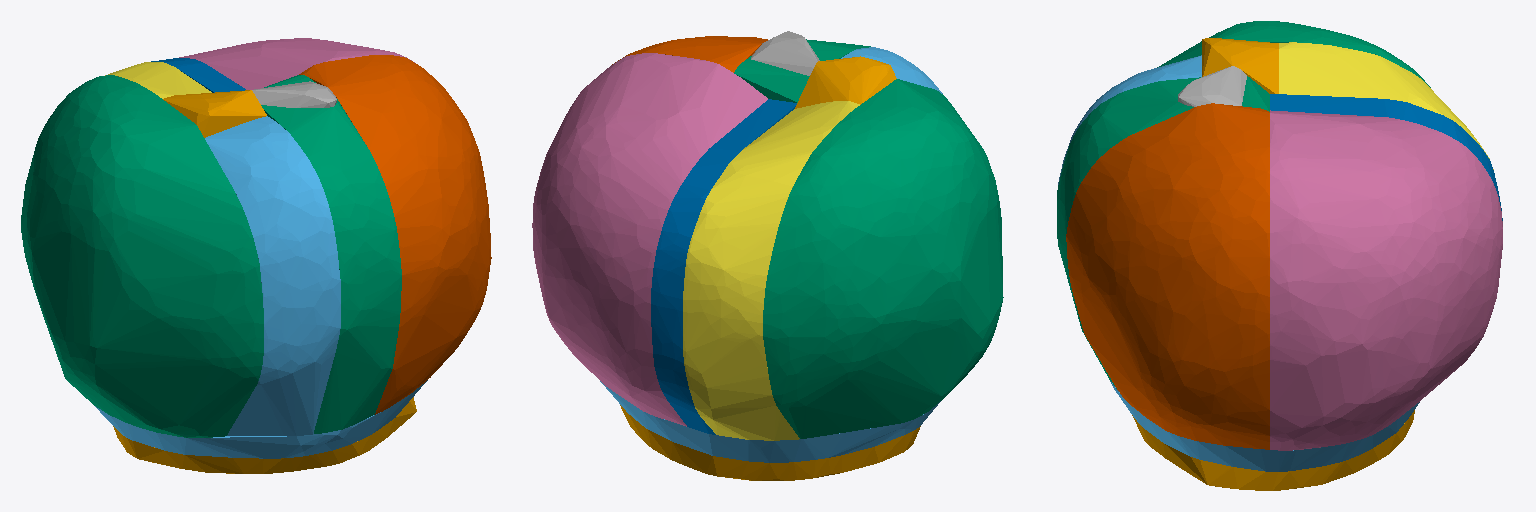
The robot description file, URDF, robot "root":
<?xml version='1.0' encoding='UTF-8'?>
<robot name="root">
  <link name="link_convex_piece_000.obj">
    <inertial>
      <origin xyz="0 0 0" rpy="0 0 0"/>
    </inertial>
    <visual>
      <origin xyz="0 0 0" rpy="0 0 0"/>
      <geometry>
        <mesh filename="meshes/convex_piece_000.obj" scale="1.0 1.0 1.0"/>
      </geometry>
    </visual>
    <collision>
      <origin xyz="0 0 0" rpy="0 0 0"/>
      <geometry>
        <mesh filename="meshes/convex_piece_000.obj" scale="1.0 1.0 1.0"/>
      </geometry>
    </collision>
  </link>
  <link name="link_convex_piece_001.obj">
    <inertial>
      <origin xyz="0 0 0" rpy="0 0 0"/>
    </inertial>
    <visual>
      <origin xyz="0 0 0" rpy="0 0 0"/>
      <geometry>
        <mesh filename="meshes/convex_piece_001.obj" scale="1.0 1.0 1.0"/>
      </geometry>
    </visual>
    <collision>
      <origin xyz="0 0 0" rpy="0 0 0"/>
      <geometry>
        <mesh filename="meshes/convex_piece_001.obj" scale="1.0 1.0 1.0"/>
      </geometry>
    </collision>
  </link>
  <link name="link_convex_piece_002.obj">
    <inertial>
      <origin xyz="0 0 0" rpy="0 0 0"/>
    </inertial>
    <visual>
      <origin xyz="0 0 0" rpy="0 0 0"/>
      <geometry>
        <mesh filename="meshes/convex_piece_002.obj" scale="1.0 1.0 1.0"/>
      </geometry>
    </visual>
    <collision>
      <origin xyz="0 0 0" rpy="0 0 0"/>
      <geometry>
        <mesh filename="meshes/convex_piece_002.obj" scale="1.0 1.0 1.0"/>
      </geometry>
    </collision>
  </link>
  <link name="link_convex_piece_003.obj">
    <inertial>
      <origin xyz="0 0 0" rpy="0 0 0"/>
    </inertial>
    <visual>
      <origin xyz="0 0 0" rpy="0 0 0"/>
      <geometry>
        <mesh filename="meshes/convex_piece_003.obj" scale="1.0 1.0 1.0"/>
      </geometry>
    </visual>
    <collision>
      <origin xyz="0 0 0" rpy="0 0 0"/>
      <geometry>
        <mesh filename="meshes/convex_piece_003.obj" scale="1.0 1.0 1.0"/>
      </geometry>
    </collision>
  </link>
  <link name="link_convex_piece_004.obj">
    <inertial>
      <origin xyz="0 0 0" rpy="0 0 0"/>
    </inertial>
    <visual>
      <origin xyz="0 0 0" rpy="0 0 0"/>
      <geometry>
        <mesh filename="meshes/convex_piece_004.obj" scale="1.0 1.0 1.0"/>
      </geometry>
    </visual>
    <collision>
      <origin xyz="0 0 0" rpy="0 0 0"/>
      <geometry>
        <mesh filename="meshes/convex_piece_004.obj" scale="1.0 1.0 1.0"/>
      </geometry>
    </collision>
  </link>
  <link name="link_convex_piece_005.obj">
    <inertial>
      <origin xyz="0 0 0" rpy="0 0 0"/>
    </inertial>
    <visual>
      <origin xyz="0 0 0" rpy="0 0 0"/>
      <geometry>
        <mesh filename="meshes/convex_piece_005.obj" scale="1.0 1.0 1.0"/>
      </geometry>
    </visual>
    <collision>
      <origin xyz="0 0 0" rpy="0 0 0"/>
      <geometry>
        <mesh filename="meshes/convex_piece_005.obj" scale="1.0 1.0 1.0"/>
      </geometry>
    </collision>
  </link>
  <link name="link_convex_piece_006.obj">
    <inertial>
      <origin xyz="0 0 0" rpy="0 0 0"/>
    </inertial>
    <visual>
      <origin xyz="0 0 0" rpy="0 0 0"/>
      <geometry>
        <mesh filename="meshes/convex_piece_006.obj" scale="1.0 1.0 1.0"/>
      </geometry>
    </visual>
    <collision>
      <origin xyz="0 0 0" rpy="0 0 0"/>
      <geometry>
        <mesh filename="meshes/convex_piece_006.obj" scale="1.0 1.0 1.0"/>
      </geometry>
    </collision>
  </link>
  <link name="link_convex_piece_007.obj">
    <inertial>
      <origin xyz="0 0 0" rpy="0 0 0"/>
    </inertial>
    <visual>
      <origin xyz="0 0 0" rpy="0 0 0"/>
      <geometry>
        <mesh filename="meshes/convex_piece_007.obj" scale="1.0 1.0 1.0"/>
      </geometry>
    </visual>
    <collision>
      <origin xyz="0 0 0" rpy="0 0 0"/>
      <geometry>
        <mesh filename="meshes/convex_piece_007.obj" scale="1.0 1.0 1.0"/>
      </geometry>
    </collision>
  </link>
  <link name="link_convex_piece_008.obj">
    <inertial>
      <origin xyz="0 0 0" rpy="0 0 0"/>
    </inertial>
    <visual>
      <origin xyz="0 0 0" rpy="0 0 0"/>
      <geometry>
        <mesh filename="meshes/convex_piece_008.obj" scale="1.0 1.0 1.0"/>
      </geometry>
    </visual>
    <collision>
      <origin xyz="0 0 0" rpy="0 0 0"/>
      <geometry>
        <mesh filename="meshes/convex_piece_008.obj" scale="1.0 1.0 1.0"/>
      </geometry>
    </collision>
  </link>
  <link name="link_convex_piece_009.obj">
    <inertial>
      <origin xyz="0 0 0" rpy="0 0 0"/>
    </inertial>
    <visual>
      <origin xyz="0 0 0" rpy="0 0 0"/>
      <geometry>
        <mesh filename="meshes/convex_piece_009.obj" scale="1.0 1.0 1.0"/>
      </geometry>
    </visual>
    <collision>
      <origin xyz="0 0 0" rpy="0 0 0"/>
      <geometry>
        <mesh filename="meshes/convex_piece_009.obj" scale="1.0 1.0 1.0"/>
      </geometry>
    </collision>
  </link>
  <link name="link_convex_piece_010.obj">
    <inertial>
      <origin xyz="0 0 0" rpy="0 0 0"/>
    </inertial>
    <visual>
      <origin xyz="0 0 0" rpy="0 0 0"/>
      <geometry>
        <mesh filename="meshes/convex_piece_010.obj" scale="1.0 1.0 1.0"/>
      </geometry>
    </visual>
    <collision>
      <origin xyz="0 0 0" rpy="0 0 0"/>
      <geometry>
        <mesh filename="meshes/convex_piece_010.obj" scale="1.0 1.0 1.0"/>
      </geometry>
    </collision>
  </link>
  <joint name="link_convex_piece_001.obj_joint" type="fixed">
    <origin xyz="0 0 0" rpy="0 0 0"/>
    <parent link="link_convex_piece_000.obj"/>
    <child link="link_convex_piece_001.obj"/>
  </joint>
  <joint name="link_convex_piece_002.obj_joint" type="fixed">
    <origin xyz="0 0 0" rpy="0 0 0"/>
    <parent link="link_convex_piece_000.obj"/>
    <child link="link_convex_piece_002.obj"/>
  </joint>
  <joint name="link_convex_piece_003.obj_joint" type="fixed">
    <origin xyz="0 0 0" rpy="0 0 0"/>
    <parent link="link_convex_piece_000.obj"/>
    <child link="link_convex_piece_003.obj"/>
  </joint>
  <joint name="link_convex_piece_004.obj_joint" type="fixed">
    <origin xyz="0 0 0" rpy="0 0 0"/>
    <parent link="link_convex_piece_000.obj"/>
    <child link="link_convex_piece_004.obj"/>
  </joint>
  <joint name="link_convex_piece_005.obj_joint" type="fixed">
    <origin xyz="0 0 0" rpy="0 0 0"/>
    <parent link="link_convex_piece_000.obj"/>
    <child link="link_convex_piece_005.obj"/>
  </joint>
  <joint name="link_convex_piece_006.obj_joint" type="fixed">
    <origin xyz="0 0 0" rpy="0 0 0"/>
    <parent link="link_convex_piece_000.obj"/>
    <child link="link_convex_piece_006.obj"/>
  </joint>
  <joint name="link_convex_piece_007.obj_joint" type="fixed">
    <origin xyz="0 0 0" rpy="0 0 0"/>
    <parent link="link_convex_piece_000.obj"/>
    <child link="link_convex_piece_007.obj"/>
  </joint>
  <joint name="link_convex_piece_008.obj_joint" type="fixed">
    <origin xyz="0 0 0" rpy="0 0 0"/>
    <parent link="link_convex_piece_000.obj"/>
    <child link="link_convex_piece_008.obj"/>
  </joint>
  <joint name="link_convex_piece_009.obj_joint" type="fixed">
    <origin xyz="0 0 0" rpy="0 0 0"/>
    <parent link="link_convex_piece_000.obj"/>
    <child link="link_convex_piece_009.obj"/>
  </joint>
  <joint name="link_convex_piece_010.obj_joint" type="fixed">
    <origin xyz="0 0 0" rpy="0 0 0"/>
    <parent link="link_convex_piece_000.obj"/>
    <child link="link_convex_piece_010.obj"/>
  </joint>
</robot>

--- Facts derived from the render (not from the file) ---
Views: 3 orthographic renders of the robot side by side, from view 1: azimuth 30°, elevation 25°; view 2: azimuth 150°, elevation 25°; view 3: azimuth 270°, elevation 25°.
Model root with 11 links and 10 joints (10 fixed), rooted at link_convex_piece_000.obj, posed all joints at 0.
Visible links, largest first — view 1: link_convex_piece_002.obj, link_convex_piece_005.obj, link_convex_piece_009.obj, link_convex_piece_010.obj, link_convex_piece_001.obj, link_convex_piece_006.obj, link_convex_piece_000.obj, link_convex_piece_008.obj, link_convex_piece_003.obj, link_convex_piece_007.obj, link_convex_piece_004.obj; view 2: link_convex_piece_002.obj, link_convex_piece_006.obj, link_convex_piece_003.obj, link_convex_piece_004.obj, link_convex_piece_001.obj, link_convex_piece_000.obj, link_convex_piece_008.obj, link_convex_piece_010.obj, link_convex_piece_005.obj, link_convex_piece_007.obj, link_convex_piece_009.obj; view 3: link_convex_piece_006.obj, link_convex_piece_005.obj, link_convex_piece_010.obj, link_convex_piece_003.obj, link_convex_piece_001.obj, link_convex_piece_000.obj, link_convex_piece_004.obj, link_convex_piece_002.obj, link_convex_piece_008.obj, link_convex_piece_007.obj, link_convex_piece_009.obj.
Boxes of the visible links, left/top/right/bottom form: link_convex_piece_002.obj: left=21, top=75, right=263, bottom=437; link_convex_piece_005.obj: left=299, top=55, right=491, bottom=414; link_convex_piece_009.obj: left=205, top=116, right=340, bottom=435; link_convex_piece_010.obj: left=261, top=75, right=401, bottom=433; link_convex_piece_001.obj: left=95, top=380, right=427, bottom=458; link_convex_piece_006.obj: left=179, top=38, right=414, bottom=89; link_convex_piece_000.obj: left=113, top=397, right=416, bottom=473; link_convex_piece_008.obj: left=163, top=90, right=266, bottom=137; link_convex_piece_003.obj: left=105, top=62, right=211, bottom=98; link_convex_piece_007.obj: left=252, top=81, right=336, bottom=107; link_convex_piece_004.obj: left=151, top=58, right=245, bottom=92; link_convex_piece_002.obj: left=763, top=79, right=1003, bottom=438; link_convex_piece_006.obj: left=532, top=53, right=767, bottom=426; link_convex_piece_003.obj: left=683, top=101, right=859, bottom=440; link_convex_piece_004.obj: left=651, top=99, right=796, bottom=434; link_convex_piece_001.obj: left=600, top=381, right=940, bottom=462; link_convex_piece_000.obj: left=620, top=405, right=920, bottom=480; link_convex_piece_008.obj: left=795, top=56, right=896, bottom=108; link_convex_piece_010.obj: left=734, top=39, right=870, bottom=102; link_convex_piece_005.obj: left=612, top=36, right=767, bottom=72; link_convex_piece_007.obj: left=751, top=31, right=819, bottom=75; link_convex_piece_009.obj: left=841, top=47, right=942, bottom=93; link_convex_piece_006.obj: left=1270, top=110, right=1502, bottom=450; link_convex_piece_005.obj: left=1066, top=103, right=1269, bottom=449; link_convex_piece_010.obj: left=1057, top=76, right=1269, bottom=388; link_convex_piece_003.obj: left=1279, top=42, right=1493, bottom=169; link_convex_piece_001.obj: left=1110, top=381, right=1419, bottom=471; link_convex_piece_000.obj: left=1132, top=410, right=1414, bottom=490; link_convex_piece_004.obj: left=1270, top=94, right=1502, bottom=220; link_convex_piece_002.obj: left=1157, top=21, right=1430, bottom=87; link_convex_piece_008.obj: left=1202, top=38, right=1278, bottom=93; link_convex_piece_007.obj: left=1178, top=66, right=1246, bottom=106; link_convex_piece_009.obj: left=1058, top=55, right=1201, bottom=184.
Bounding box of the posed robot: 0.087 × 0.0822 × 0.0714 m (x, y, z).
11 mesh visuals loaded from 11 distinct referenced files (11 OBJ).
